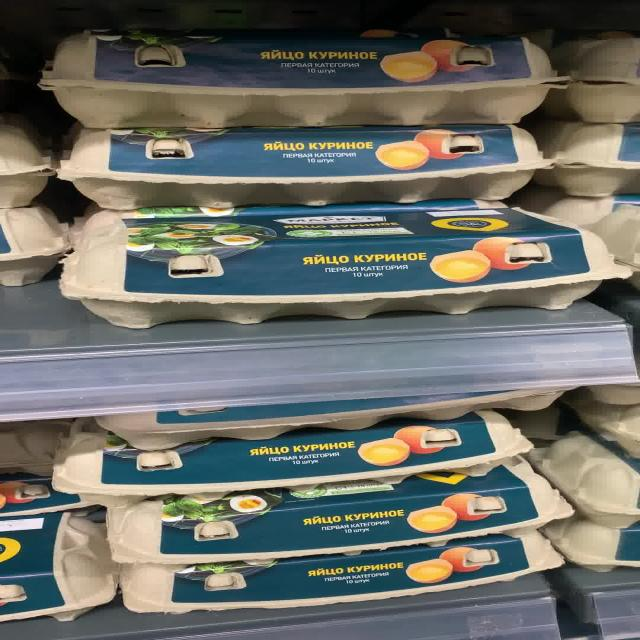egg box: (59, 206, 632, 329), (104, 454, 575, 570), (36, 30, 573, 130), (49, 411, 536, 507), (49, 122, 554, 210), (115, 524, 566, 618)
